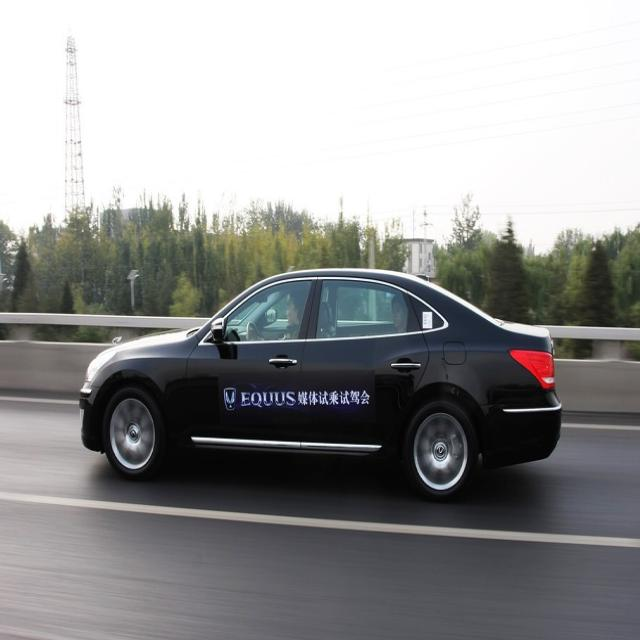back_left_side_light: (506, 346, 556, 389)
door: (306, 275, 429, 447)
front_bumper: (78, 380, 110, 453)
front_left_side_door: (183, 275, 321, 451)
front_left_side_light: (85, 348, 116, 383)
front_left_side_mirror: (210, 316, 226, 343)
rear_bumper: (477, 391, 562, 470)
wheel: (407, 399, 478, 500), (104, 386, 165, 478)
